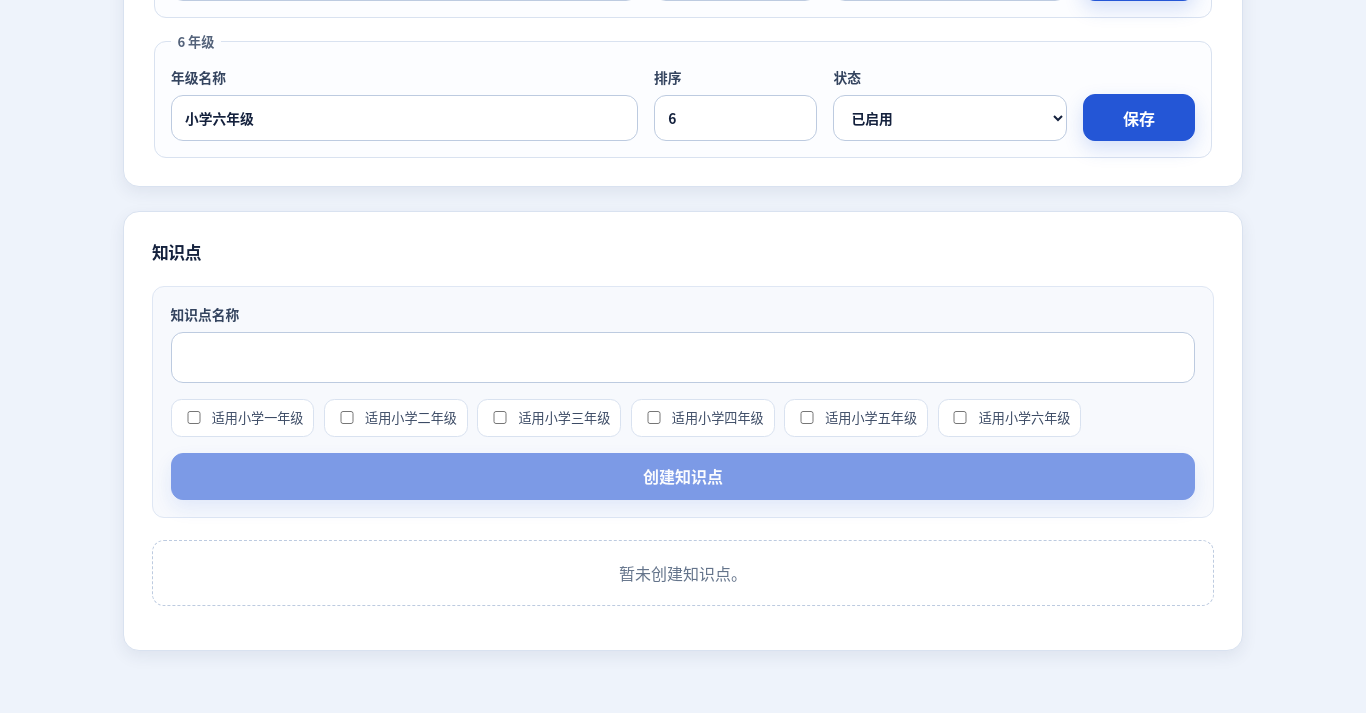
Test: grade and knowledge-point management › creates a knowledge point associated with multiple grades
This screenshot has width=1366, height=713.
(page scrolled)
Type "20 以内加减法" into the field labelled "知识点名称" at (683, 358), box [171,332,1195,383]
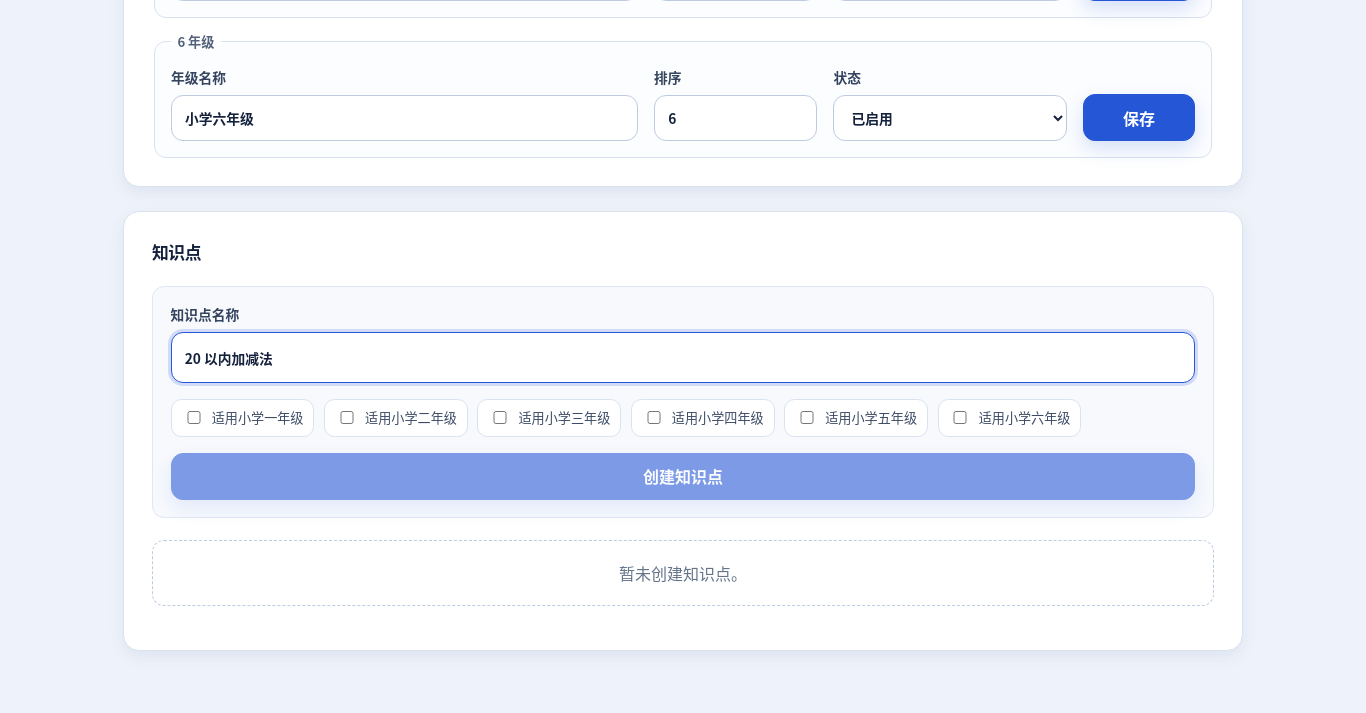
Click the checkbox labelled "适用小学一年级" at (194, 418), box [186,412,202,424]
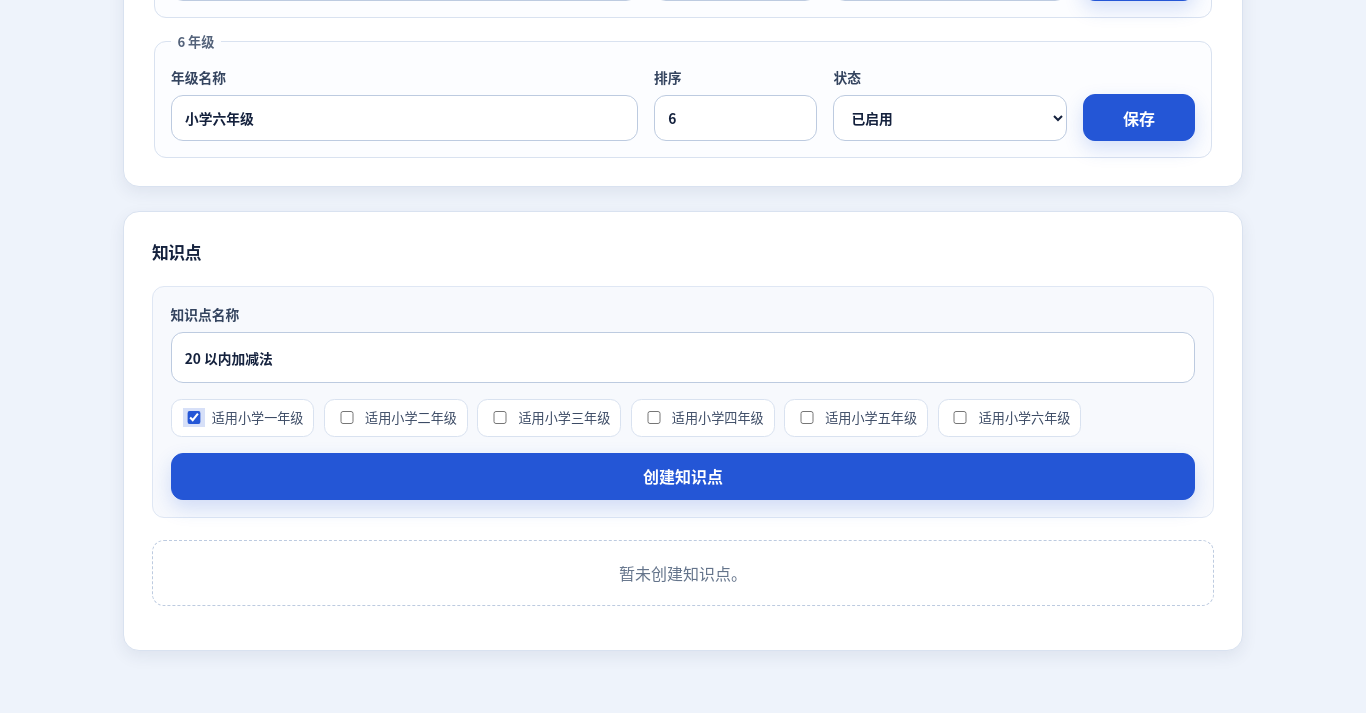
Click the checkbox labelled "适用小学二年级" at (347, 418), box [339,412,355,424]
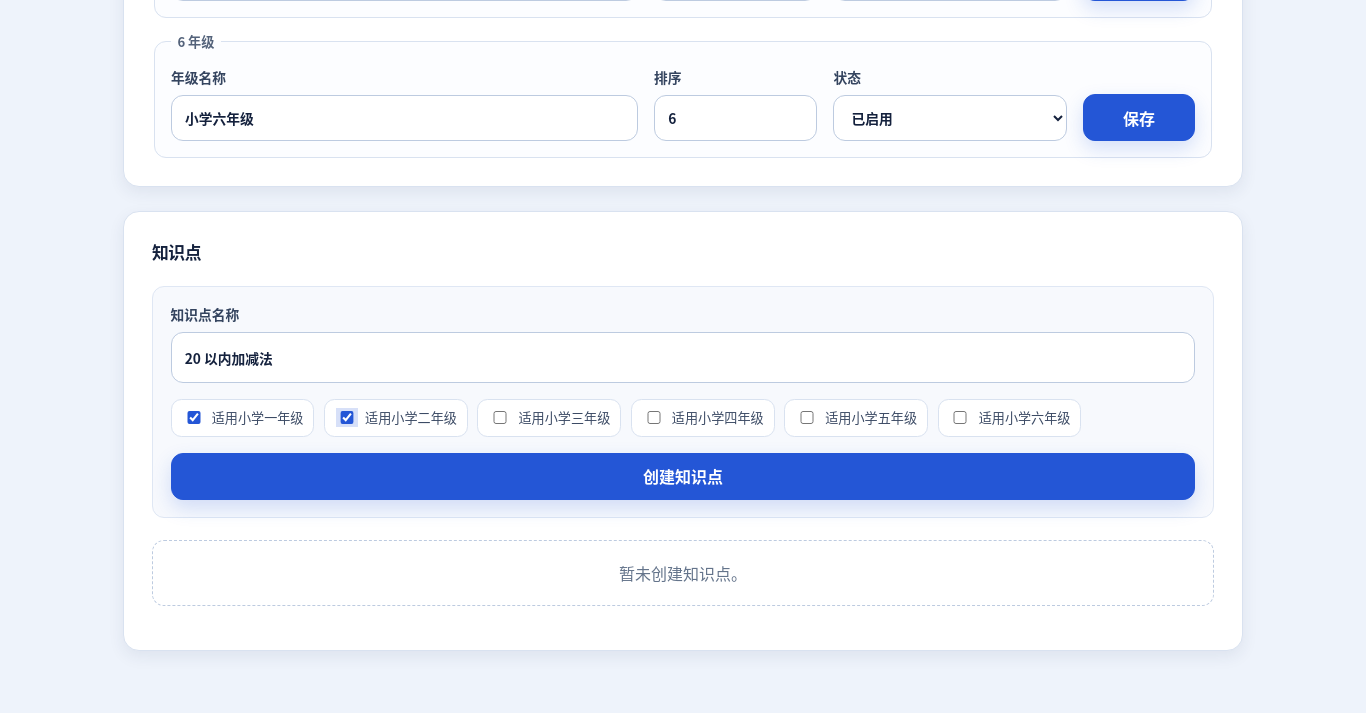
Click the button "创建知识点" at (683, 476), box [171,453,1195,500]
(page scrolled)
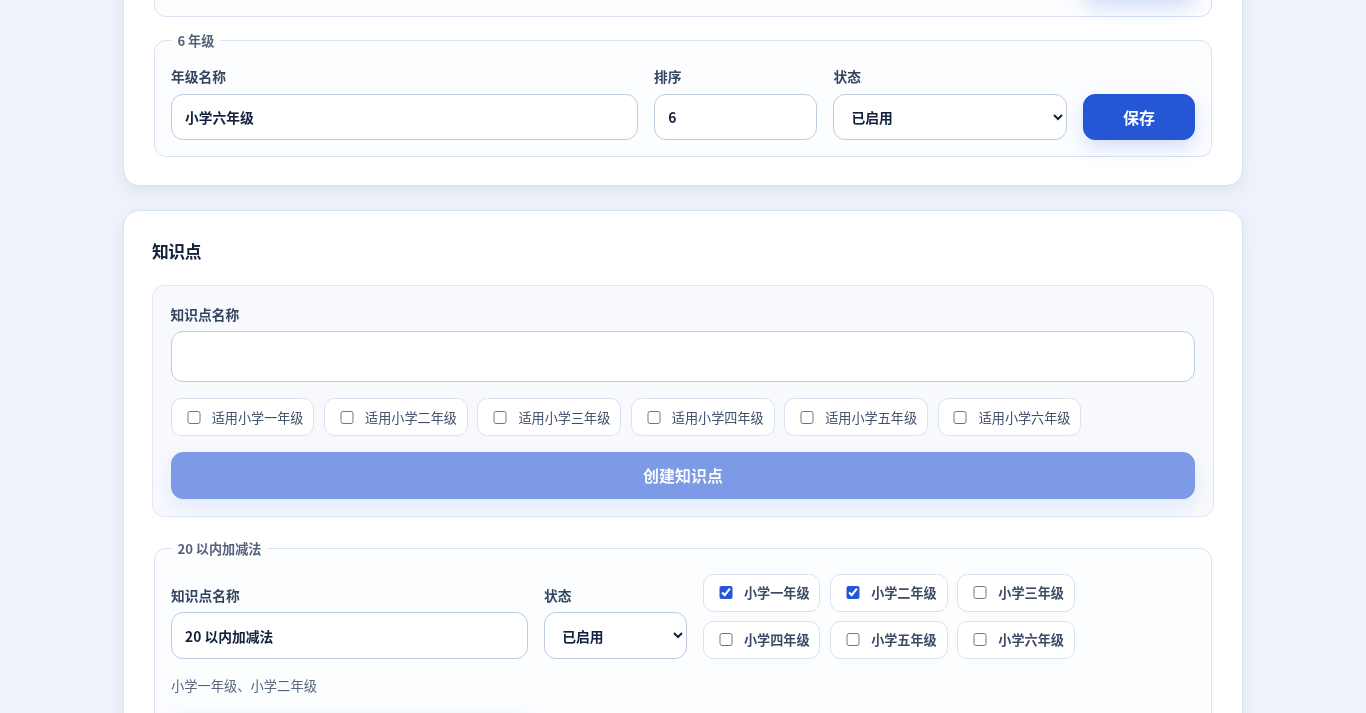
Check: the field showing "20 以内加减法" below "20 以内加减法" is shown, box [171,612,528,659]
Check: the text "小学一年级、小学二年级" is shown, box [171,676,317,695]
